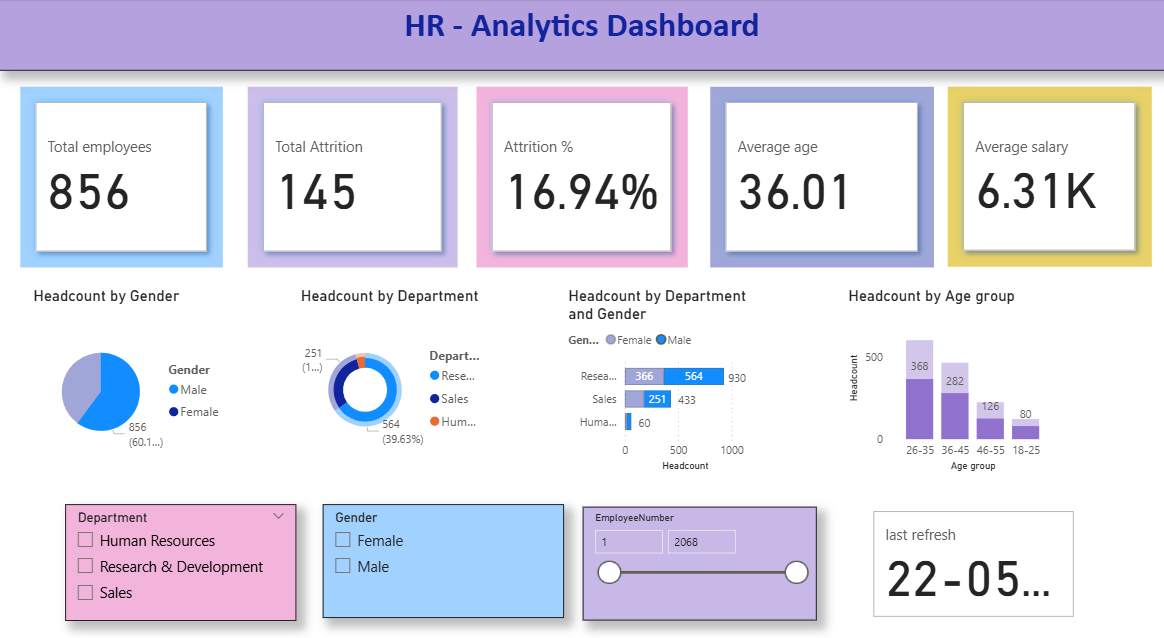

The dashboard page shown, as its layout file describes it:
{"tool":"powerbi","page":{"name":"Page 1","canvas":[1280,720],"ordinal":0},"visuals":[{"type":"cardVisual","fields":{"Data":["HR data.Total employees"]},"box":[22.9,108.2,222.5,198.1],"z":0},{"type":"cardVisual","fields":{"Data":["HR data.Total Attrition"]},"box":[272.8,108.2,230.2,198.1],"z":1000},{"type":"cardVisual","fields":{"Data":["HR data.Attrition %"]},"box":[524.3,108.2,231.7,198.1],"z":2000},{"type":"cardVisual","fields":{"Data":["HR data.Average salary"]},"box":[1041,108.2,239.3,198.1],"z":3000},{"type":"cardVisual","fields":{"Data":["HR data.Average age"]},"box":[780.4,108.2,245.4,198.1],"z":4000},{"type":"pieChart","fields":{"Category":["HR data.Gender"],"Y":["HR data.Headcount"]},"box":[33.5,327.7,224.1,211.9],"z":5000},{"type":"donutChart","fields":{"Category":["HR data.Department"],"Y":["HR data.Headcount"]},"box":[326.2,327.7,211.9,207.3],"z":6000},{"type":"barChart","fields":{"Category":["HR data.Department"],"Y":["HR data.Headcount"],"Series":["HR data.Gender"]},"box":[620.3,327.7,218,207.3],"z":7000},{"type":"clusteredColumnChart","fields":{"Category":["HR data.Age group"],"Y":["HR data.Headcount"]},"box":[928.2,327.7,236.2,207.3],"z":8000},{"type":"slicer","fields":{"Values":["HR data.Department"]},"box":[134.1,570,254.5,126.5],"z":9000},{"type":"slicer","fields":{"Values":["HR data.Gender"]},"box":[467.9,570,265.2,125],"z":10000},{"type":"slicer","fields":{"Values":["HR data.EmployeeNumber"]},"box":[818.5,570,256.1,125],"z":11000},{"type":"textbox","box":[0,0,1280.3,108.2],"z":12000},{"type":"cardVisual","fields":{"Data":["HR data.last refresh"]},"box":[1097.8,569.5,182.5,126.2],"z":13000}]}

Visuals, with their boxes in screenshot pixels (x1, y1, x2, y2), scaled from the page's 1280x720 canvas onto the 1164x638 screenshot:
cardVisual - HR data.Total employees: rect(21, 96, 223, 271)
cardVisual - HR data.Total Attrition: rect(248, 96, 457, 271)
cardVisual - HR data.Attrition %: rect(477, 96, 687, 271)
cardVisual - HR data.Average salary: rect(947, 96, 1163, 271)
cardVisual - HR data.Average age: rect(710, 96, 933, 271)
pieChart - HR data.Gender x HR data.Headcount: rect(30, 290, 234, 478)
donutChart - HR data.Department x HR data.Headcount: rect(297, 290, 489, 474)
barChart - HR data.Department x HR data.Headcount: rect(564, 290, 762, 474)
clusteredColumnChart - HR data.Age group x HR data.Headcount: rect(844, 290, 1059, 474)
slicer - HR data.Department: rect(122, 505, 353, 617)
slicer - HR data.Gender: rect(425, 505, 667, 616)
slicer - HR data.EmployeeNumber: rect(744, 505, 977, 616)
textbox: rect(0, 0, 1163, 96)
cardVisual - HR data.last refresh: rect(998, 505, 1163, 616)
